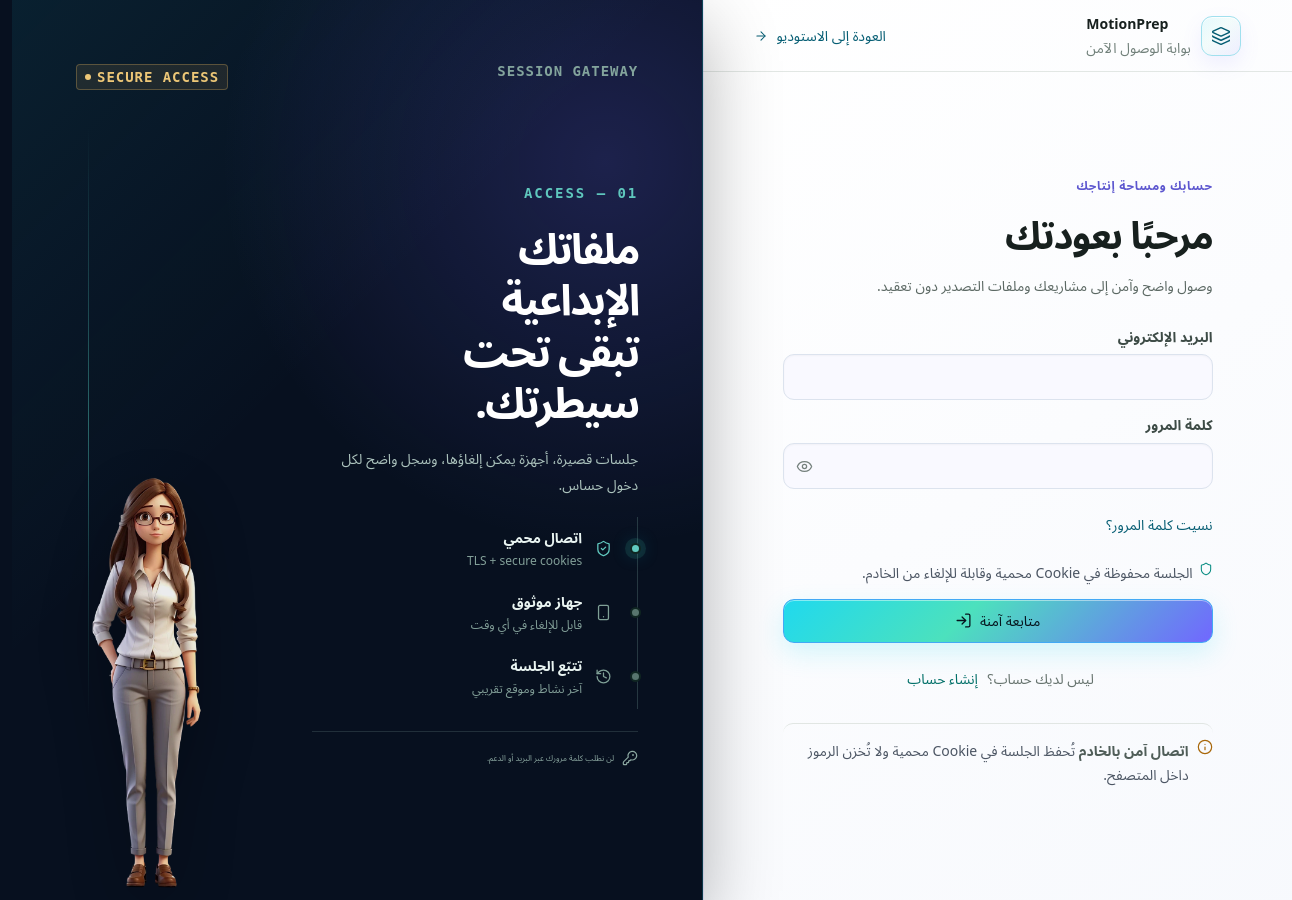
Test: AuthGateway MFA challenge › disables verification and explains the state after expiry
Step 1. Type "person@example.com" into the field labelled "البريد الإلكتروني" → (998, 378), box [784, 356, 1212, 400]
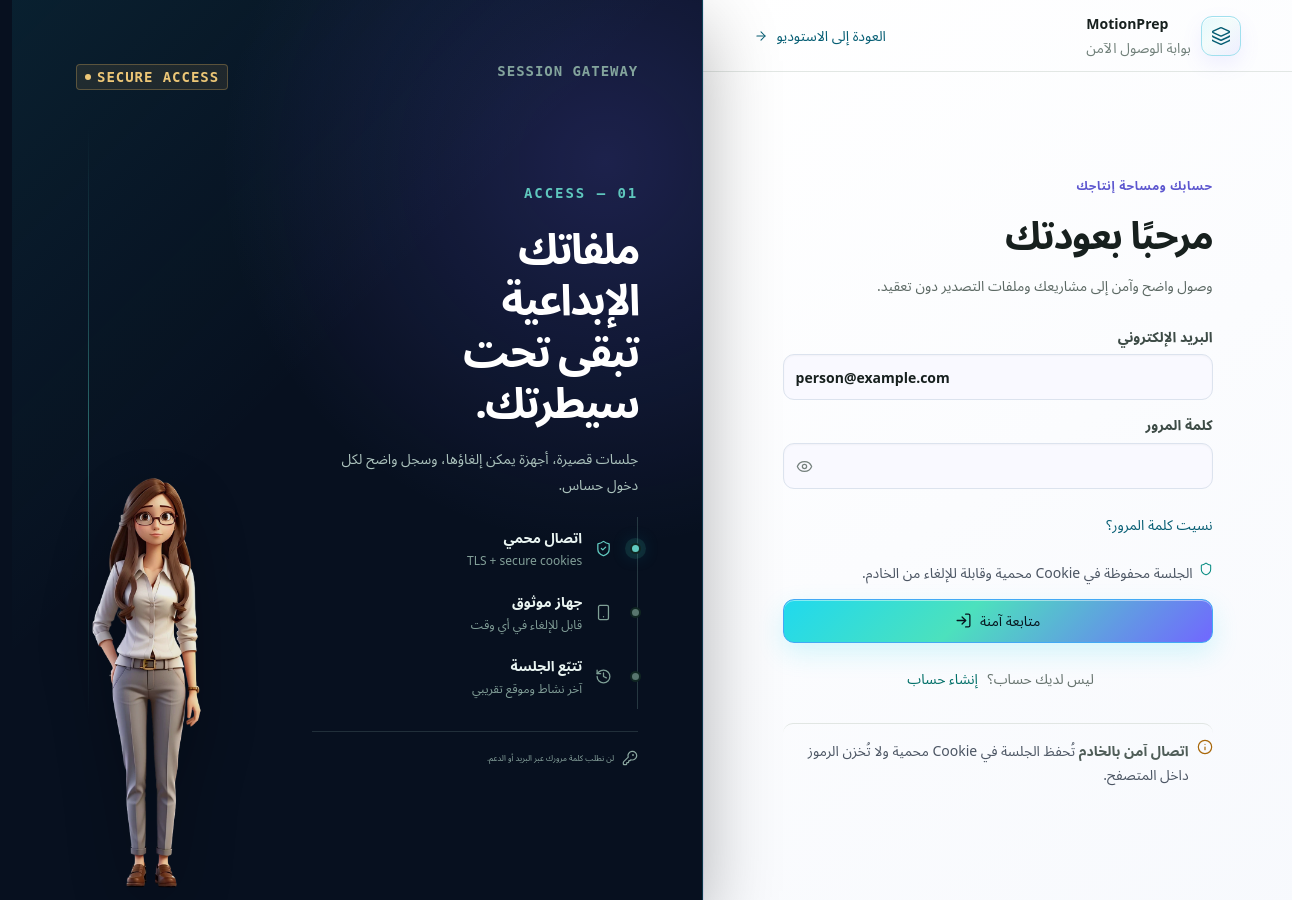
Step 2. Type "Correct-Horse-42!" into the password field labelled "كلمة المرور" → (1019, 466), box [826, 444, 1212, 488]
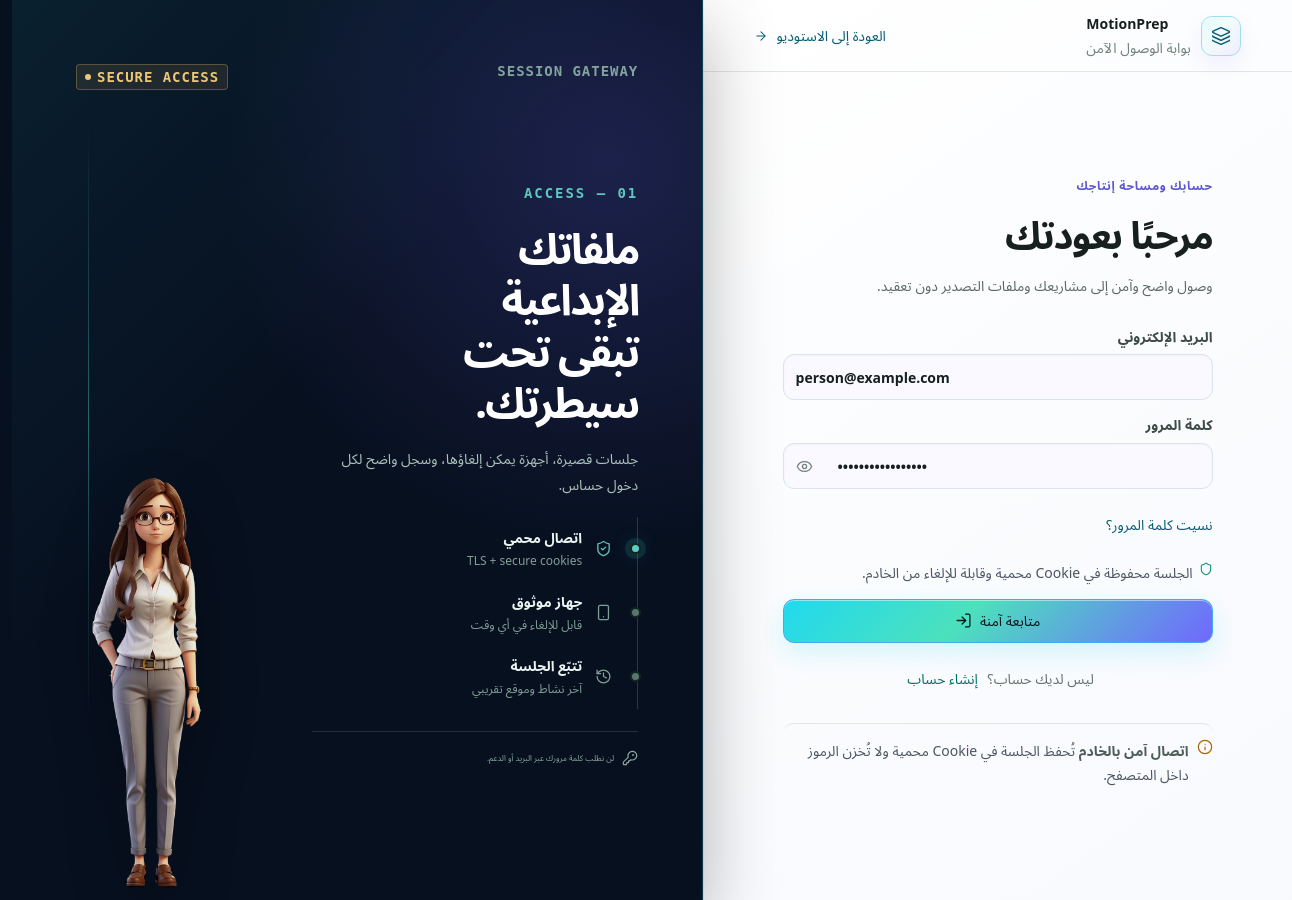
Step 3. Click the button "متابعة آمنة" → (998, 621), box [783, 599, 1213, 643]
Wait 2000 ms
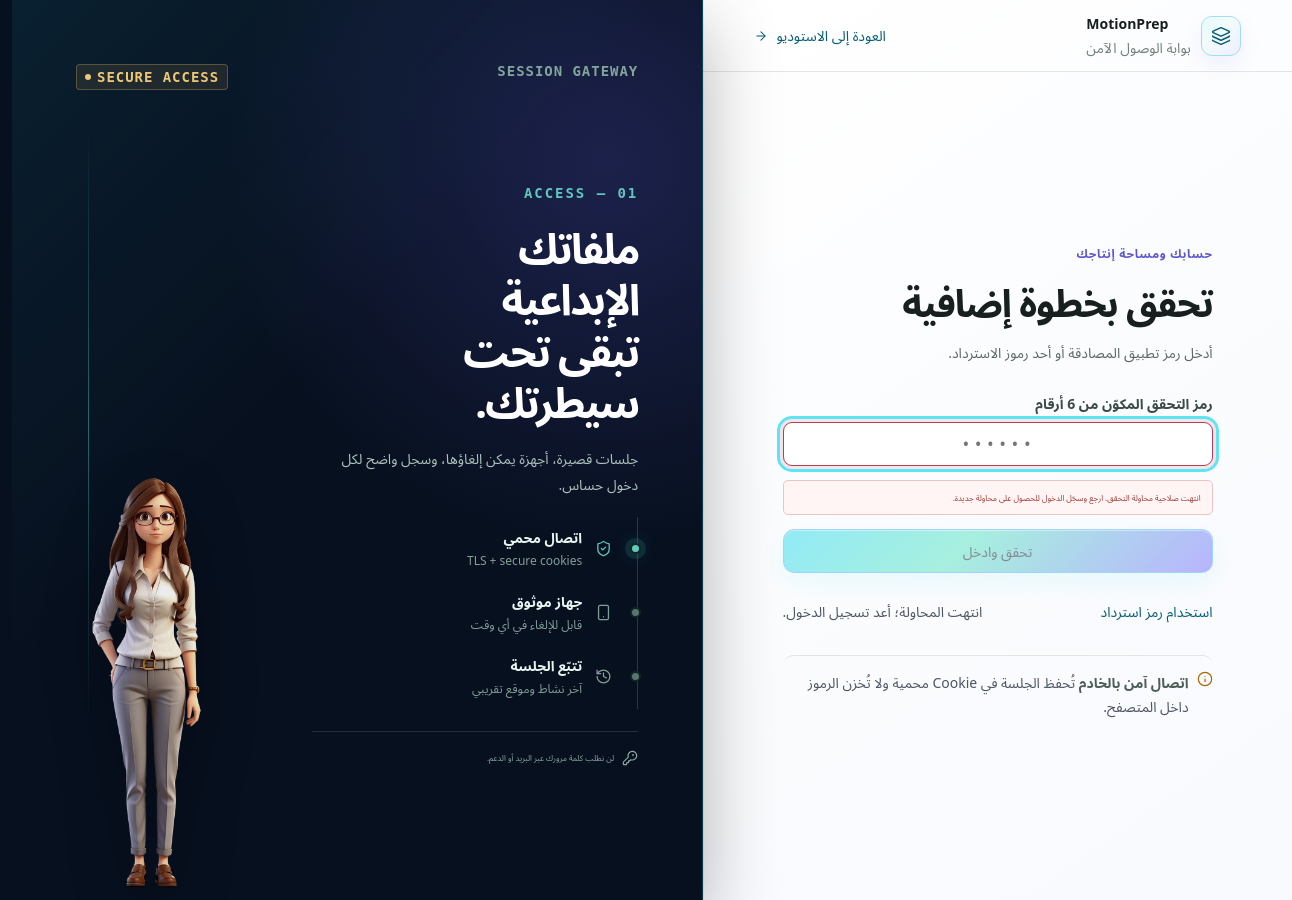
Expected: the heading "تحقق بخطوة إضافية" is shown, [902, 276, 1213, 328]
Expected: the button "تحقق وادخل" is disabled, [783, 530, 1213, 574]
Expected: the message shows "انتهت صلاحية", [953, 492, 1201, 503]
